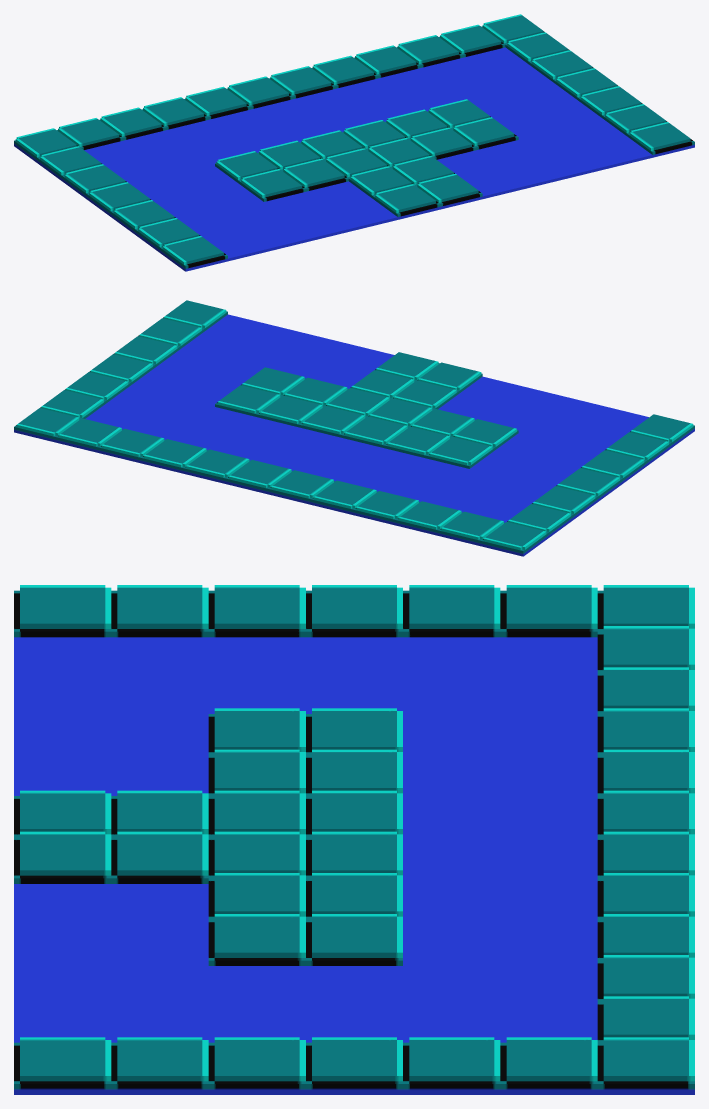
File: FloorWaterIsland.glb
The picture shows the model from 3 angles, top to bottom: view 1: azimuth 30°, elevation 25°; view 2: azimuth 150°, elevation 25°; view 3: azimuth 270°, elevation 25°; orthographic projection. The views are drawn at different scales.
Parts seen in each view (by area): view 1: FloorWaterIsland; view 2: FloorWaterIsland; view 3: FloorWaterIsland.
Part boxes in pixels (x1,y1,x2,y2): FloorWaterIsland: (14, 14, 694, 271); FloorWaterIsland: (14, 300, 694, 556); FloorWaterIsland: (14, 585, 694, 1094).
Bounding box in the file's own units: 19.2 × 0.3 × 11.2.
1 material, 1 textured.
